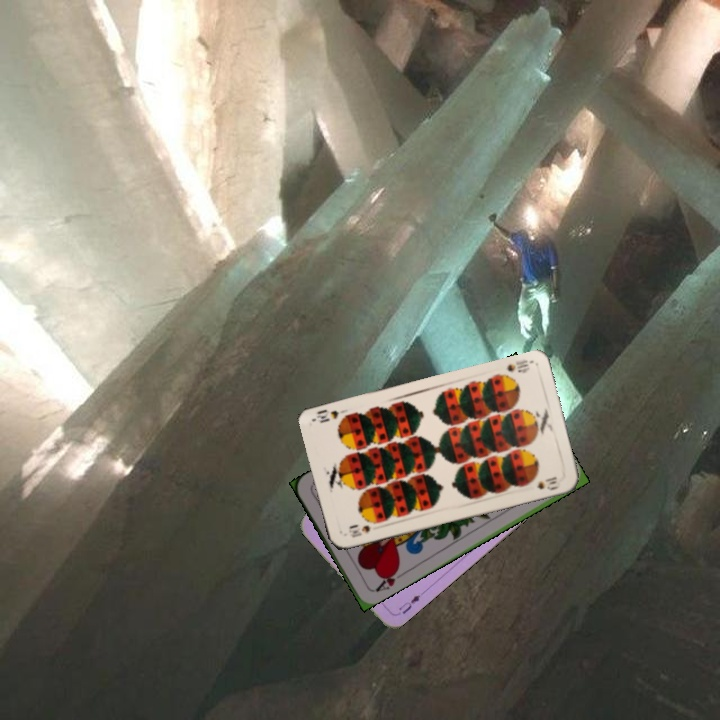EU: (391, 589, 426, 619)
HA: (369, 563, 406, 594)
S10: (344, 518, 380, 540), (501, 355, 534, 376)
